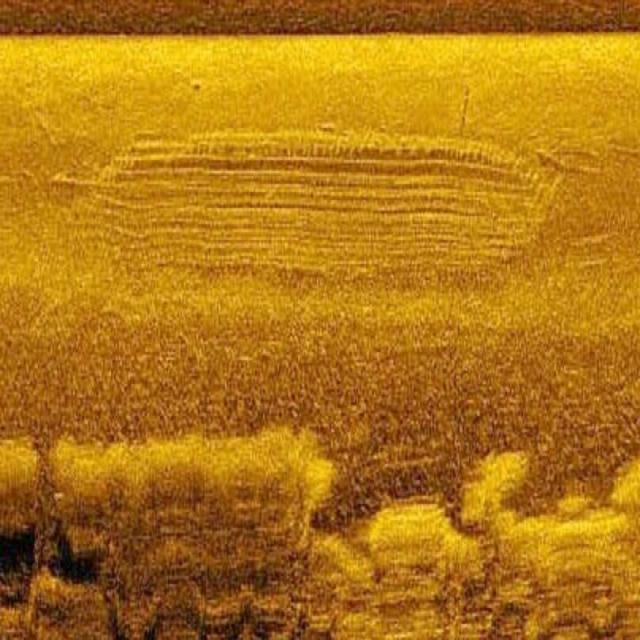shipwreck: (86, 116, 558, 206)
